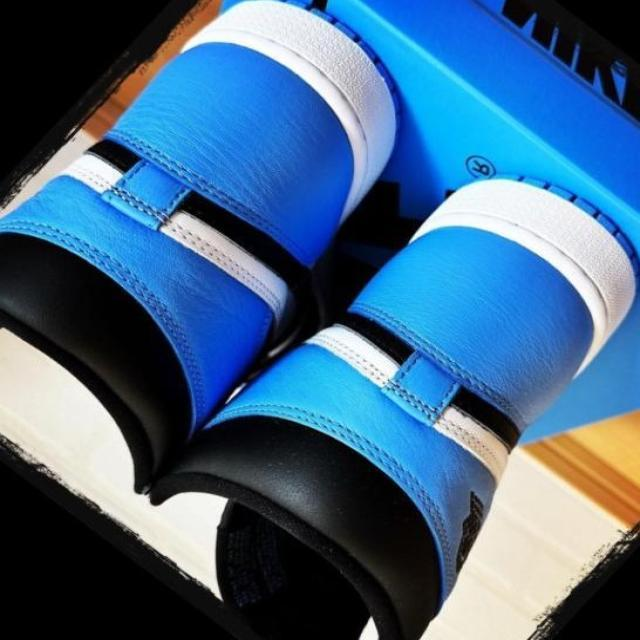J1_MateComp: (148, 172, 638, 639), (0, 0, 401, 492)
J1_ShoeLogo: (462, 152, 638, 276), (499, 0, 639, 128), (464, 153, 496, 179)
J1_StitchPattern: (200, 314, 517, 635), (62, 139, 292, 316), (0, 430, 220, 603), (304, 319, 513, 482), (157, 206, 288, 313), (434, 404, 510, 577), (307, 322, 436, 422), (64, 150, 168, 227), (215, 506, 289, 612), (440, 481, 496, 595), (432, 403, 511, 481), (315, 328, 396, 389), (452, 489, 486, 575)
